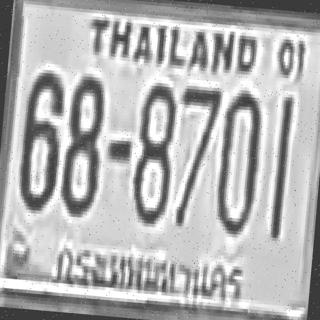N00: (213, 86, 263, 232)
N01: (268, 94, 292, 238)
N06: (15, 65, 65, 208)
N07: (170, 82, 220, 225)
N08: (128, 78, 176, 222), (59, 72, 105, 215)
P04: (43, 234, 256, 313)
